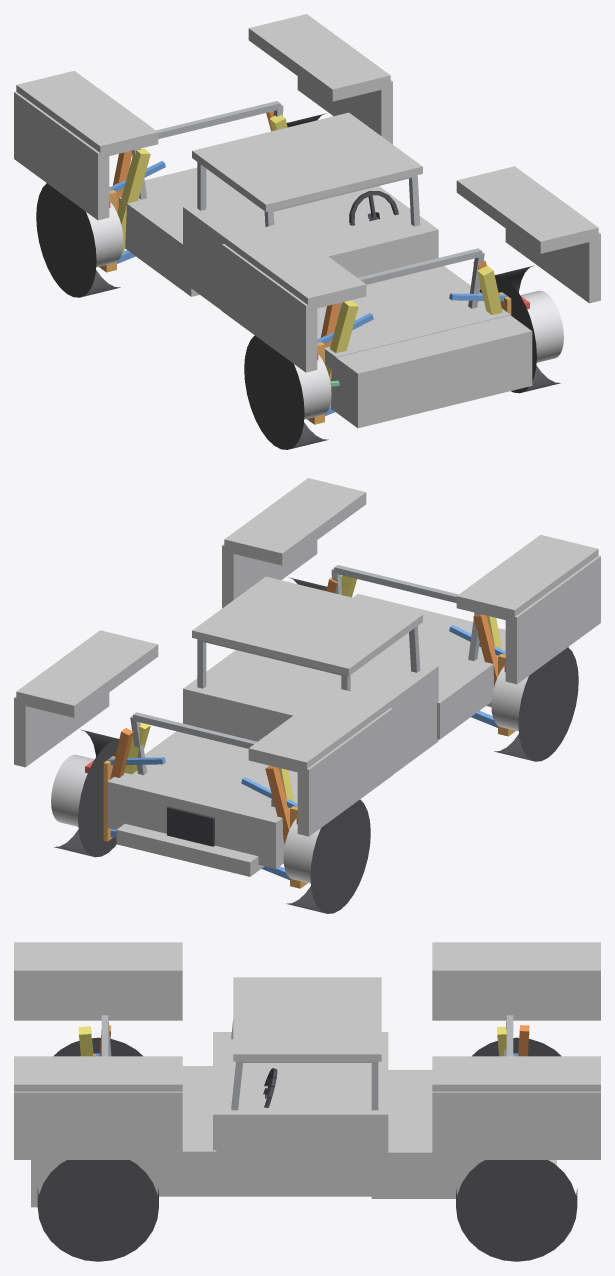
The model's file is stadium-truck.glb.
3 renders of one model, top to bottom at view 1: azimuth 30°, elevation 25°; view 2: azimuth 150°, elevation 25°; view 3: azimuth 270°, elevation 25°, orthographic.
Parts seen in each view (by area): view 1: body, wheel_RR, wheel_FR, cage, rim_FL, wheel_FL, rim_FR, rim_RR, susp_spring_RR, susp_spring_FR, susp_spring_FL, steeringwheel; view 2: body, wheel_FR, wheel_RR, cage, wheel_RL, rim_RL, rim_FR, rim_RR, differential_rear, susp_damper_RR, susp_damper_FR, susp_damper_RL; view 3: body, wheel_FL, wheel_RL, cage, wheel_FR, wheel_RR.
Boxes of the visible parts, x1,y1,x2,y2 form: body: (14, 14, 600, 428); wheel_RR: (36, 183, 120, 297); wheel_FR: (244, 335, 328, 449); cage: (131, 101, 484, 318); rim_FL: (520, 290, 563, 362); wheel_FL: (479, 265, 560, 393); rim_FR: (294, 354, 331, 419); rim_RR: (86, 202, 123, 267); susp_spring_RR: (117, 148, 150, 253); susp_spring_FR: (325, 301, 358, 406); susp_spring_FL: (477, 265, 502, 314); steeringwheel: (349, 191, 398, 225); body: (14, 478, 600, 876); wheel_FR: (494, 647, 578, 761); wheel_RR: (286, 799, 370, 913); cage: (130, 565, 481, 806); wheel_RL: (54, 729, 119, 857); rim_RL: (51, 754, 94, 826); rim_FR: (491, 666, 528, 731); rim_RR: (283, 818, 320, 883); differential_rear: (167, 806, 214, 846); susp_damper_RR: (265, 765, 289, 844); susp_damper_FR: (473, 614, 497, 686); susp_damper_RL: (110, 728, 133, 779); body: (14, 942, 600, 1207); wheel_FL: (37, 1160, 158, 1261); wheel_RL: (456, 1160, 577, 1261); cage: (101, 1015, 513, 1110); wheel_FR: (53, 1037, 142, 1056); wheel_RR: (472, 1037, 561, 1056).
Bounding box in the file's own units: 2.54 × 1.48 × 4.35.
